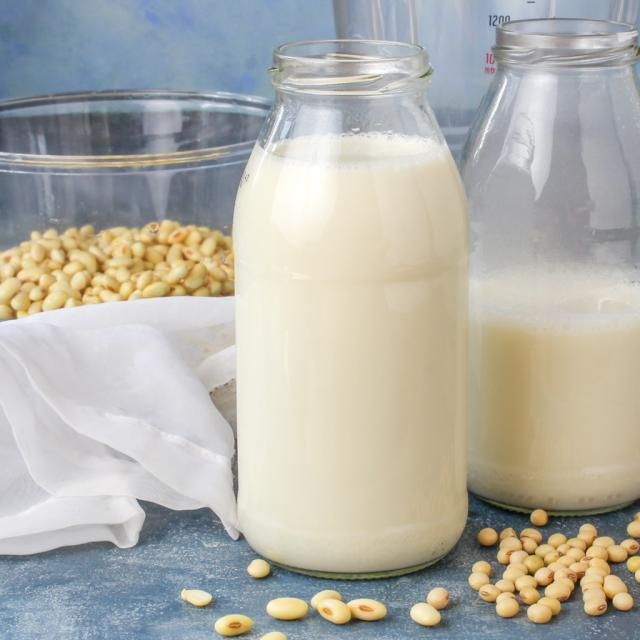milk: (225, 130, 473, 578), (472, 279, 640, 527)
